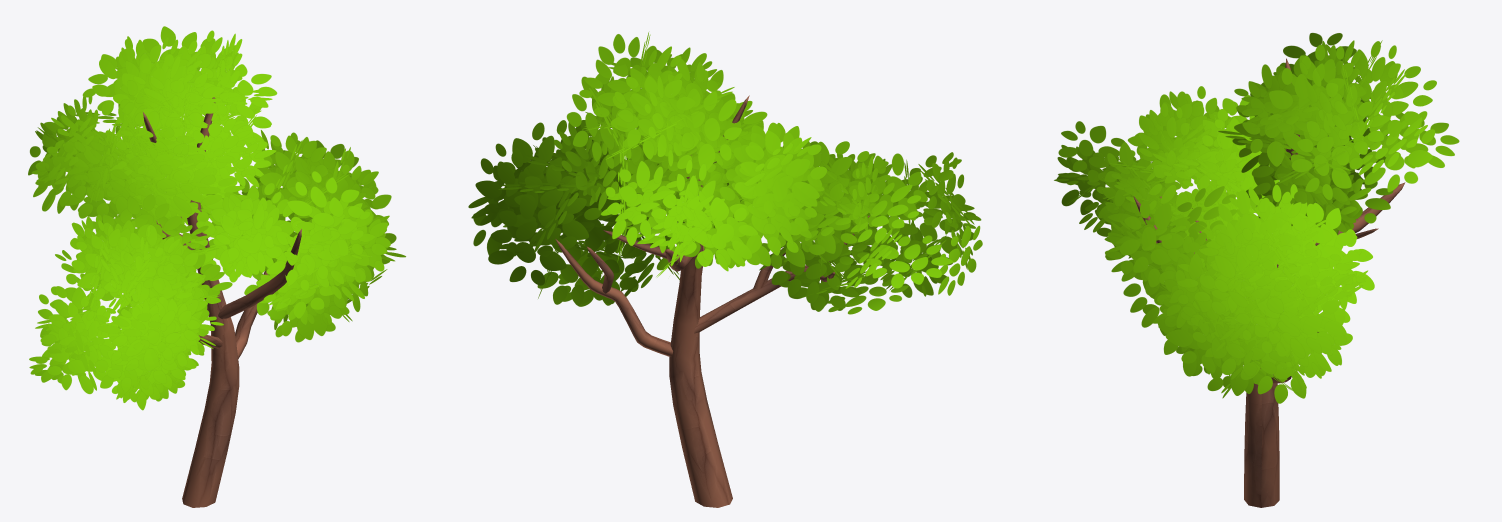
Rendered from Tree5.gltf.
The picture shows the model from 3 angles, left to right: view 1: azimuth 30°, elevation 25°; view 2: azimuth 150°, elevation 25°; view 3: azimuth 270°, elevation 25°; orthographic projection. The views are drawn at different scales.
Parts seen in each view (by area): view 1: NormalTree_5; view 2: NormalTree_5; view 3: NormalTree_5.
Boxes of the visible parts, <box> form: NormalTree_5: <box>28,26,405,507</box>; NormalTree_5: <box>468,32,982,507</box>; NormalTree_5: <box>1054,33,1459,507</box>.
Size of the model in its own units: 3.1 by 2.98 by 2.57.
2 materials, 2 textured.
